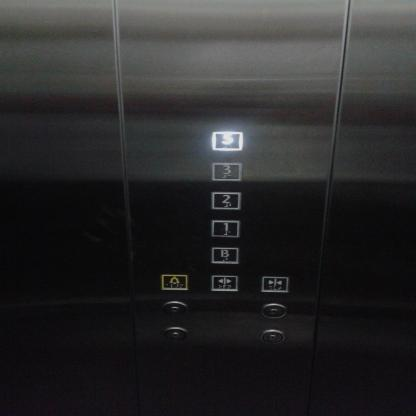1: (208, 218, 242, 238)
2: (209, 191, 242, 211)
3: (209, 161, 244, 182)
5: (210, 130, 244, 152)
B: (210, 246, 240, 264)
alarm: (160, 273, 190, 291)
close: (261, 276, 288, 292)
indicator: (161, 326, 189, 342), (260, 303, 288, 319), (258, 328, 286, 344), (162, 300, 188, 317)
open: (210, 275, 240, 292)
